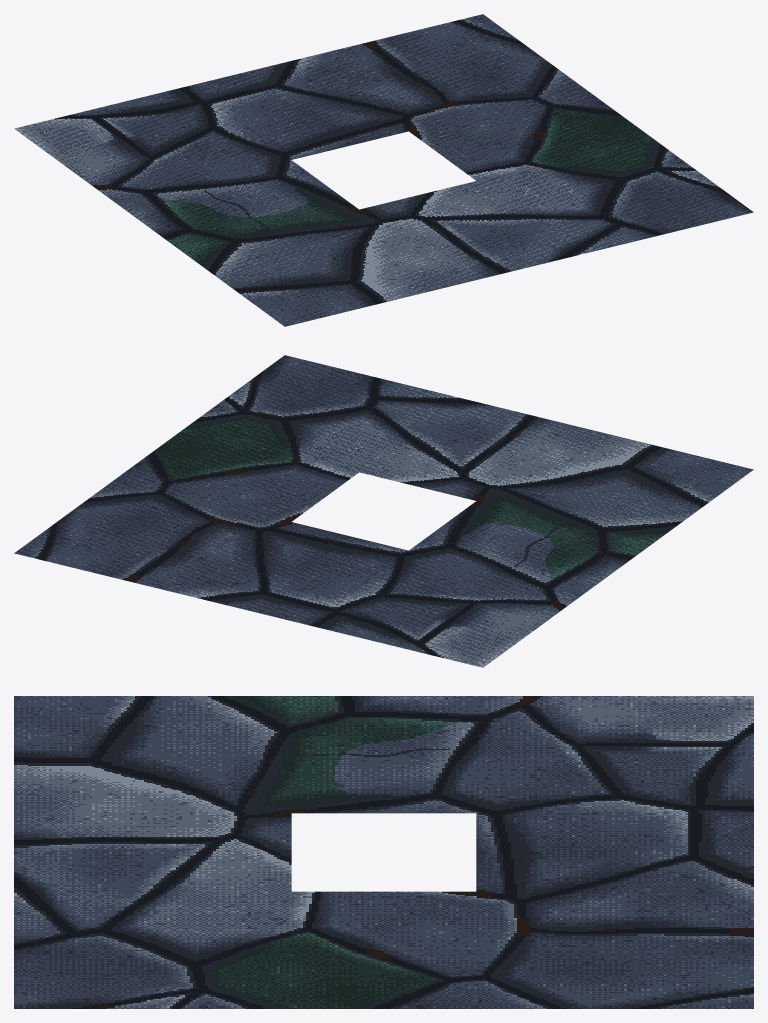
Rendered from SM_Env_FloorStone_2x2_PlateSocket.glb.
3 renders of one model, top to bottom at view 1: azimuth 30°, elevation 25°; view 2: azimuth 150°, elevation 25°; view 3: azimuth 270°, elevation 25°, orthographic. The views are drawn at different scales.
Visible parts, largest first — view 1: floor; view 2: floor; view 3: floor.
Boxes of the visible parts, x1,y1,x2,y2 form: floor: (14, 14, 753, 326); floor: (14, 355, 753, 667); floor: (14, 696, 753, 1008).
Bounding box in the file's own units: 2 × 0 × 2.
1 material, 1 textured.
